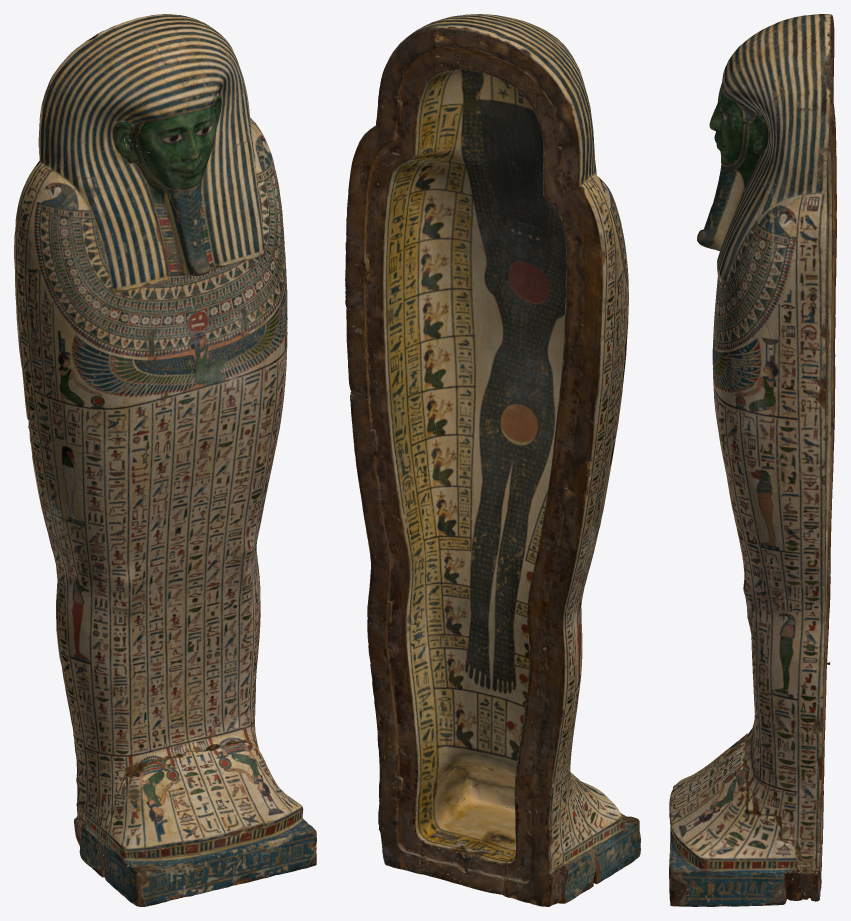
The model's file is first-a862c0eced43.glb.
3 renders of one model, left to right at view 1: azimuth 30°, elevation 25°; view 2: azimuth 150°, elevation 25°; view 3: azimuth 270°, elevation 25°, orthographic. The views are drawn at different scales.
Parts seen in each view (by area): view 1: Object_4, Object_5, Object_3, Object_2, Object_10, Object_9, Object_8, Object_11, Object_6, Object_7; view 2: Object_8, Object_7, Object_9, Object_10, Object_6, Object_11, Object_2, Object_4, Object_5, Object_3; view 3: Object_3, Object_2, Object_5, Object_9, Object_4, Object_8, Object_6, Object_10, Object_7, Object_11.
Boxes of the visible parts, bbox=[...] form: Object_4: bbox=[20, 14, 276, 901]; Object_5: bbox=[20, 17, 287, 906]; Object_3: bbox=[48, 15, 316, 897]; Object_2: bbox=[56, 20, 316, 905]; Object_10: bbox=[17, 18, 287, 903]; Object_9: bbox=[15, 14, 287, 891]; Object_8: bbox=[14, 17, 283, 897]; Object_11: bbox=[32, 456, 303, 853]; Object_6: bbox=[74, 14, 284, 898]; Object_7: bbox=[56, 44, 304, 904]; Object_8: bbox=[346, 26, 626, 876]; Object_7: bbox=[345, 33, 637, 893]; Object_9: bbox=[345, 26, 616, 855]; Object_10: bbox=[346, 30, 635, 903]; Object_6: bbox=[348, 24, 609, 906]; Object_11: bbox=[378, 32, 603, 876]; Object_2: bbox=[388, 23, 640, 898]; Object_4: bbox=[386, 15, 640, 899]; Object_5: bbox=[378, 14, 640, 900]; Object_3: bbox=[373, 14, 629, 891]; Object_3: bbox=[669, 30, 828, 905]; Object_2: bbox=[669, 65, 830, 895]; Object_5: bbox=[697, 14, 830, 899]; Object_9: bbox=[745, 14, 836, 610]; Object_4: bbox=[673, 14, 830, 788]; Object_8: bbox=[749, 61, 836, 703]; Object_6: bbox=[685, 33, 830, 906]; Object_10: bbox=[741, 24, 836, 857]; Object_7: bbox=[673, 86, 831, 906]; Object_11: bbox=[671, 402, 833, 906].
Size of the model in its own units: 654 by 2044 by 374.
Materials: 1 (1 with a texture image).
